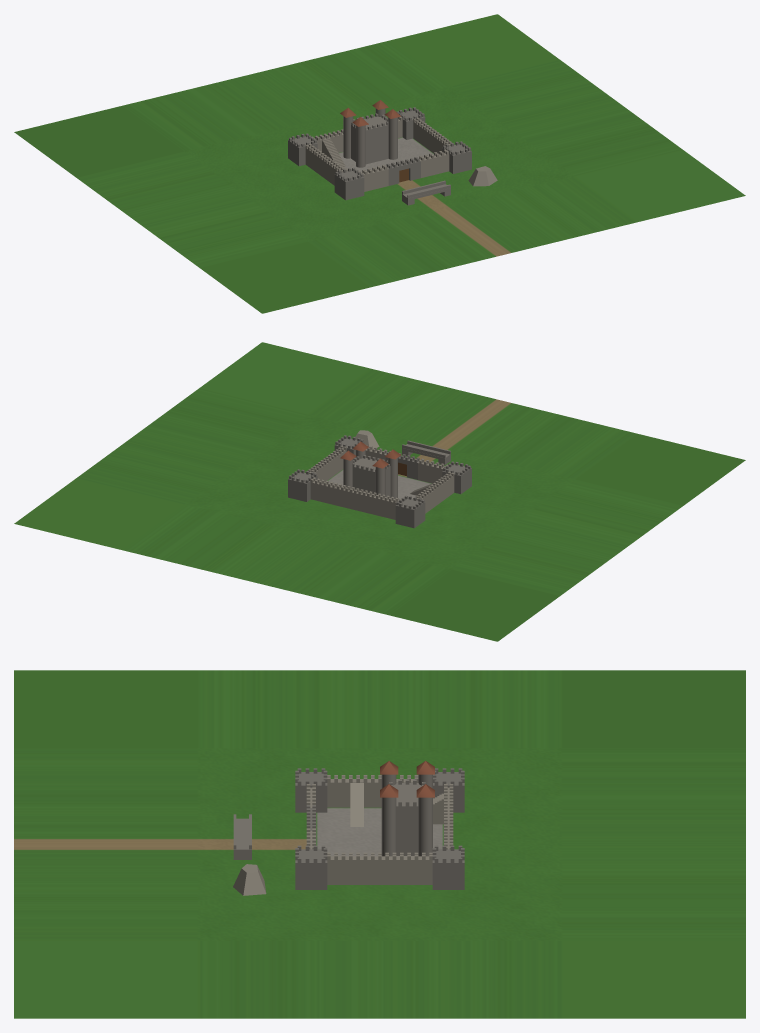
File: castle-demo.glb
3 renders of one model, top to bottom at view 1: azimuth 30°, elevation 25°; view 2: azimuth 150°, elevation 25°; view 3: azimuth 270°, elevation 25°, orthographic. The views are drawn at different scales.
Parts seen in each view (by area): view 1: ground, mb_static_2, mb_static_4, mb_static_0, mb_static_1; view 2: ground, mb_static_2, mb_static_0, mb_static_4, mb_static_1; view 3: ground, mb_static_2, mb_static_0, mb_static_4, mb_static_3, mb_static_1, mb_static_5, mb_static_6.
Part boxes in pixels (left/top/right/bottom): ground: left=14, top=14, right=745, bottom=313; mb_static_2: left=305, top=116, right=497, bottom=191; mb_static_4: left=343, top=108, right=450, bottom=205; mb_static_0: left=288, top=107, right=471, bottom=200; mb_static_1: left=290, top=110, right=470, bottom=181; ground: left=14, top=342, right=745, bottom=641; mb_static_2: left=305, top=430, right=454, bottom=519; mb_static_0: left=288, top=435, right=471, bottom=528; mb_static_4: left=343, top=440, right=450, bottom=498; mb_static_1: left=289, top=438, right=469, bottom=509; ground: left=14, top=670, right=745, bottom=1018; mb_static_2: left=233, top=775, right=453, bottom=895; mb_static_0: left=295, top=768, right=464, bottom=889; mb_static_4: left=233, top=774, right=432, bottom=859; mb_static_3: left=310, top=779, right=449, bottom=861; mb_static_1: left=295, top=772, right=464, bottom=862; mb_static_5: left=380, top=761, right=434, bottom=797; mb_static_6: left=234, top=783, right=421, bottom=852.
Bounding box in the file's own units: 180 × 18.2 × 160.
